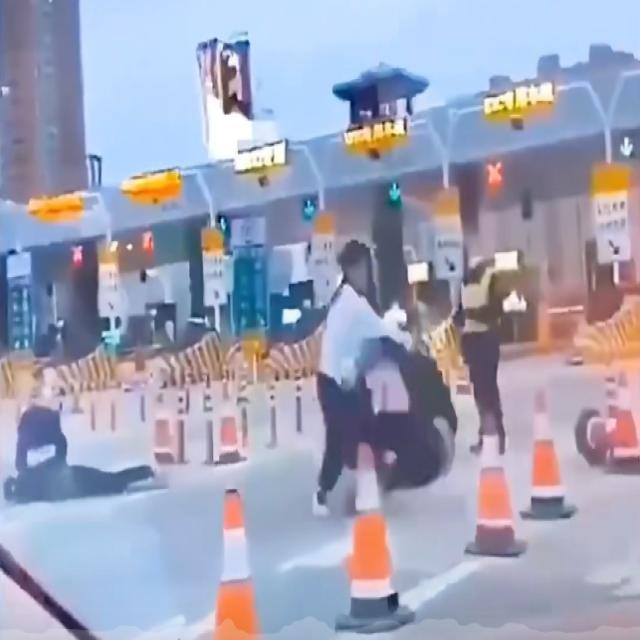fight: (321, 233, 457, 496)
